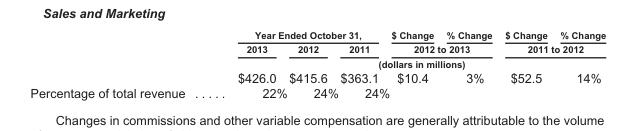table: (29, 28, 605, 99)
table column: (29, 28, 210, 99), (210, 28, 287, 99), (439, 28, 497, 99), (497, 28, 553, 99), (553, 28, 605, 99), (287, 28, 338, 99), (338, 28, 389, 99), (389, 28, 439, 99)
table column header: (29, 28, 605, 85)
table row: (29, 69, 605, 85), (29, 41, 605, 56), (29, 85, 605, 99), (29, 28, 605, 41), (29, 56, 605, 69)
table spanning cell: (210, 56, 605, 69), (210, 28, 389, 41), (389, 41, 497, 56), (497, 41, 605, 56)
